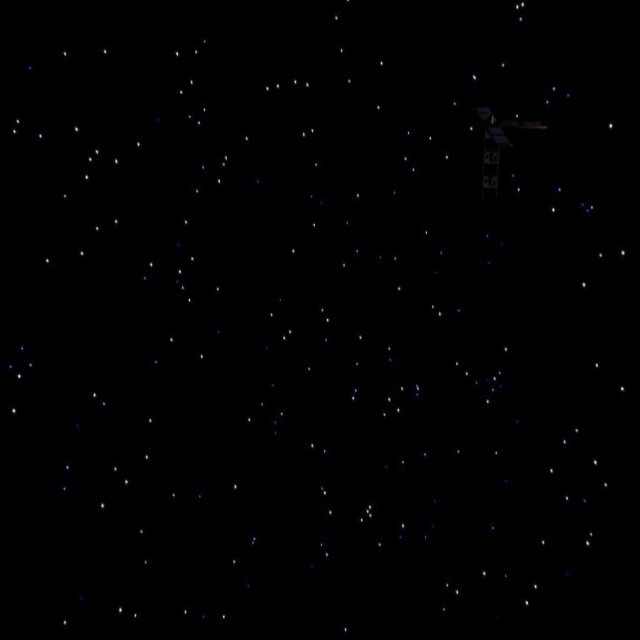satellite: (423, 81, 566, 214)
